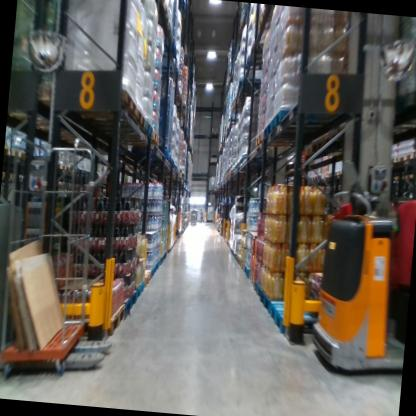pallet: (67, 99, 153, 139), (51, 81, 140, 119), (262, 114, 343, 150), (267, 102, 338, 138), (92, 114, 155, 143), (253, 128, 303, 152), (125, 126, 161, 152), (102, 303, 125, 340), (114, 291, 139, 318), (258, 4, 281, 32), (382, 149, 400, 174), (397, 147, 416, 169), (135, 269, 151, 291), (12, 147, 30, 164), (133, 279, 145, 301), (4, 142, 14, 162), (52, 155, 63, 173), (150, 259, 161, 276), (147, 264, 156, 283), (15, 173, 28, 184), (61, 162, 72, 174), (2, 171, 8, 181), (9, 171, 16, 179)
pallet_truck: (304, 167, 416, 388)
